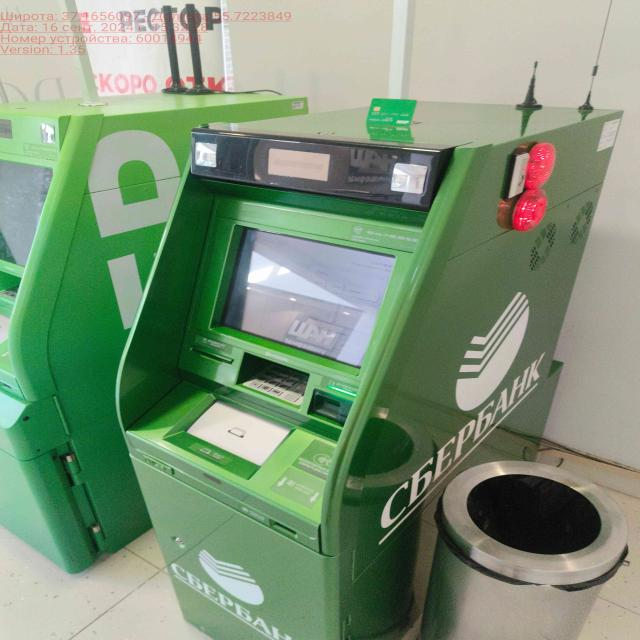bank: (117, 98, 620, 640), (0, 92, 304, 571)
